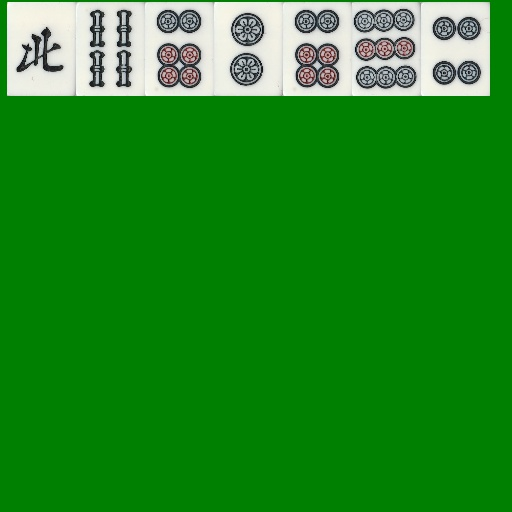2p: (214, 2, 283, 96)
4p: (421, 2, 490, 96)
4s: (76, 2, 145, 96)
6p: (145, 2, 214, 96), (283, 2, 352, 96)
9p: (352, 2, 421, 96)
north: (7, 2, 76, 96)
